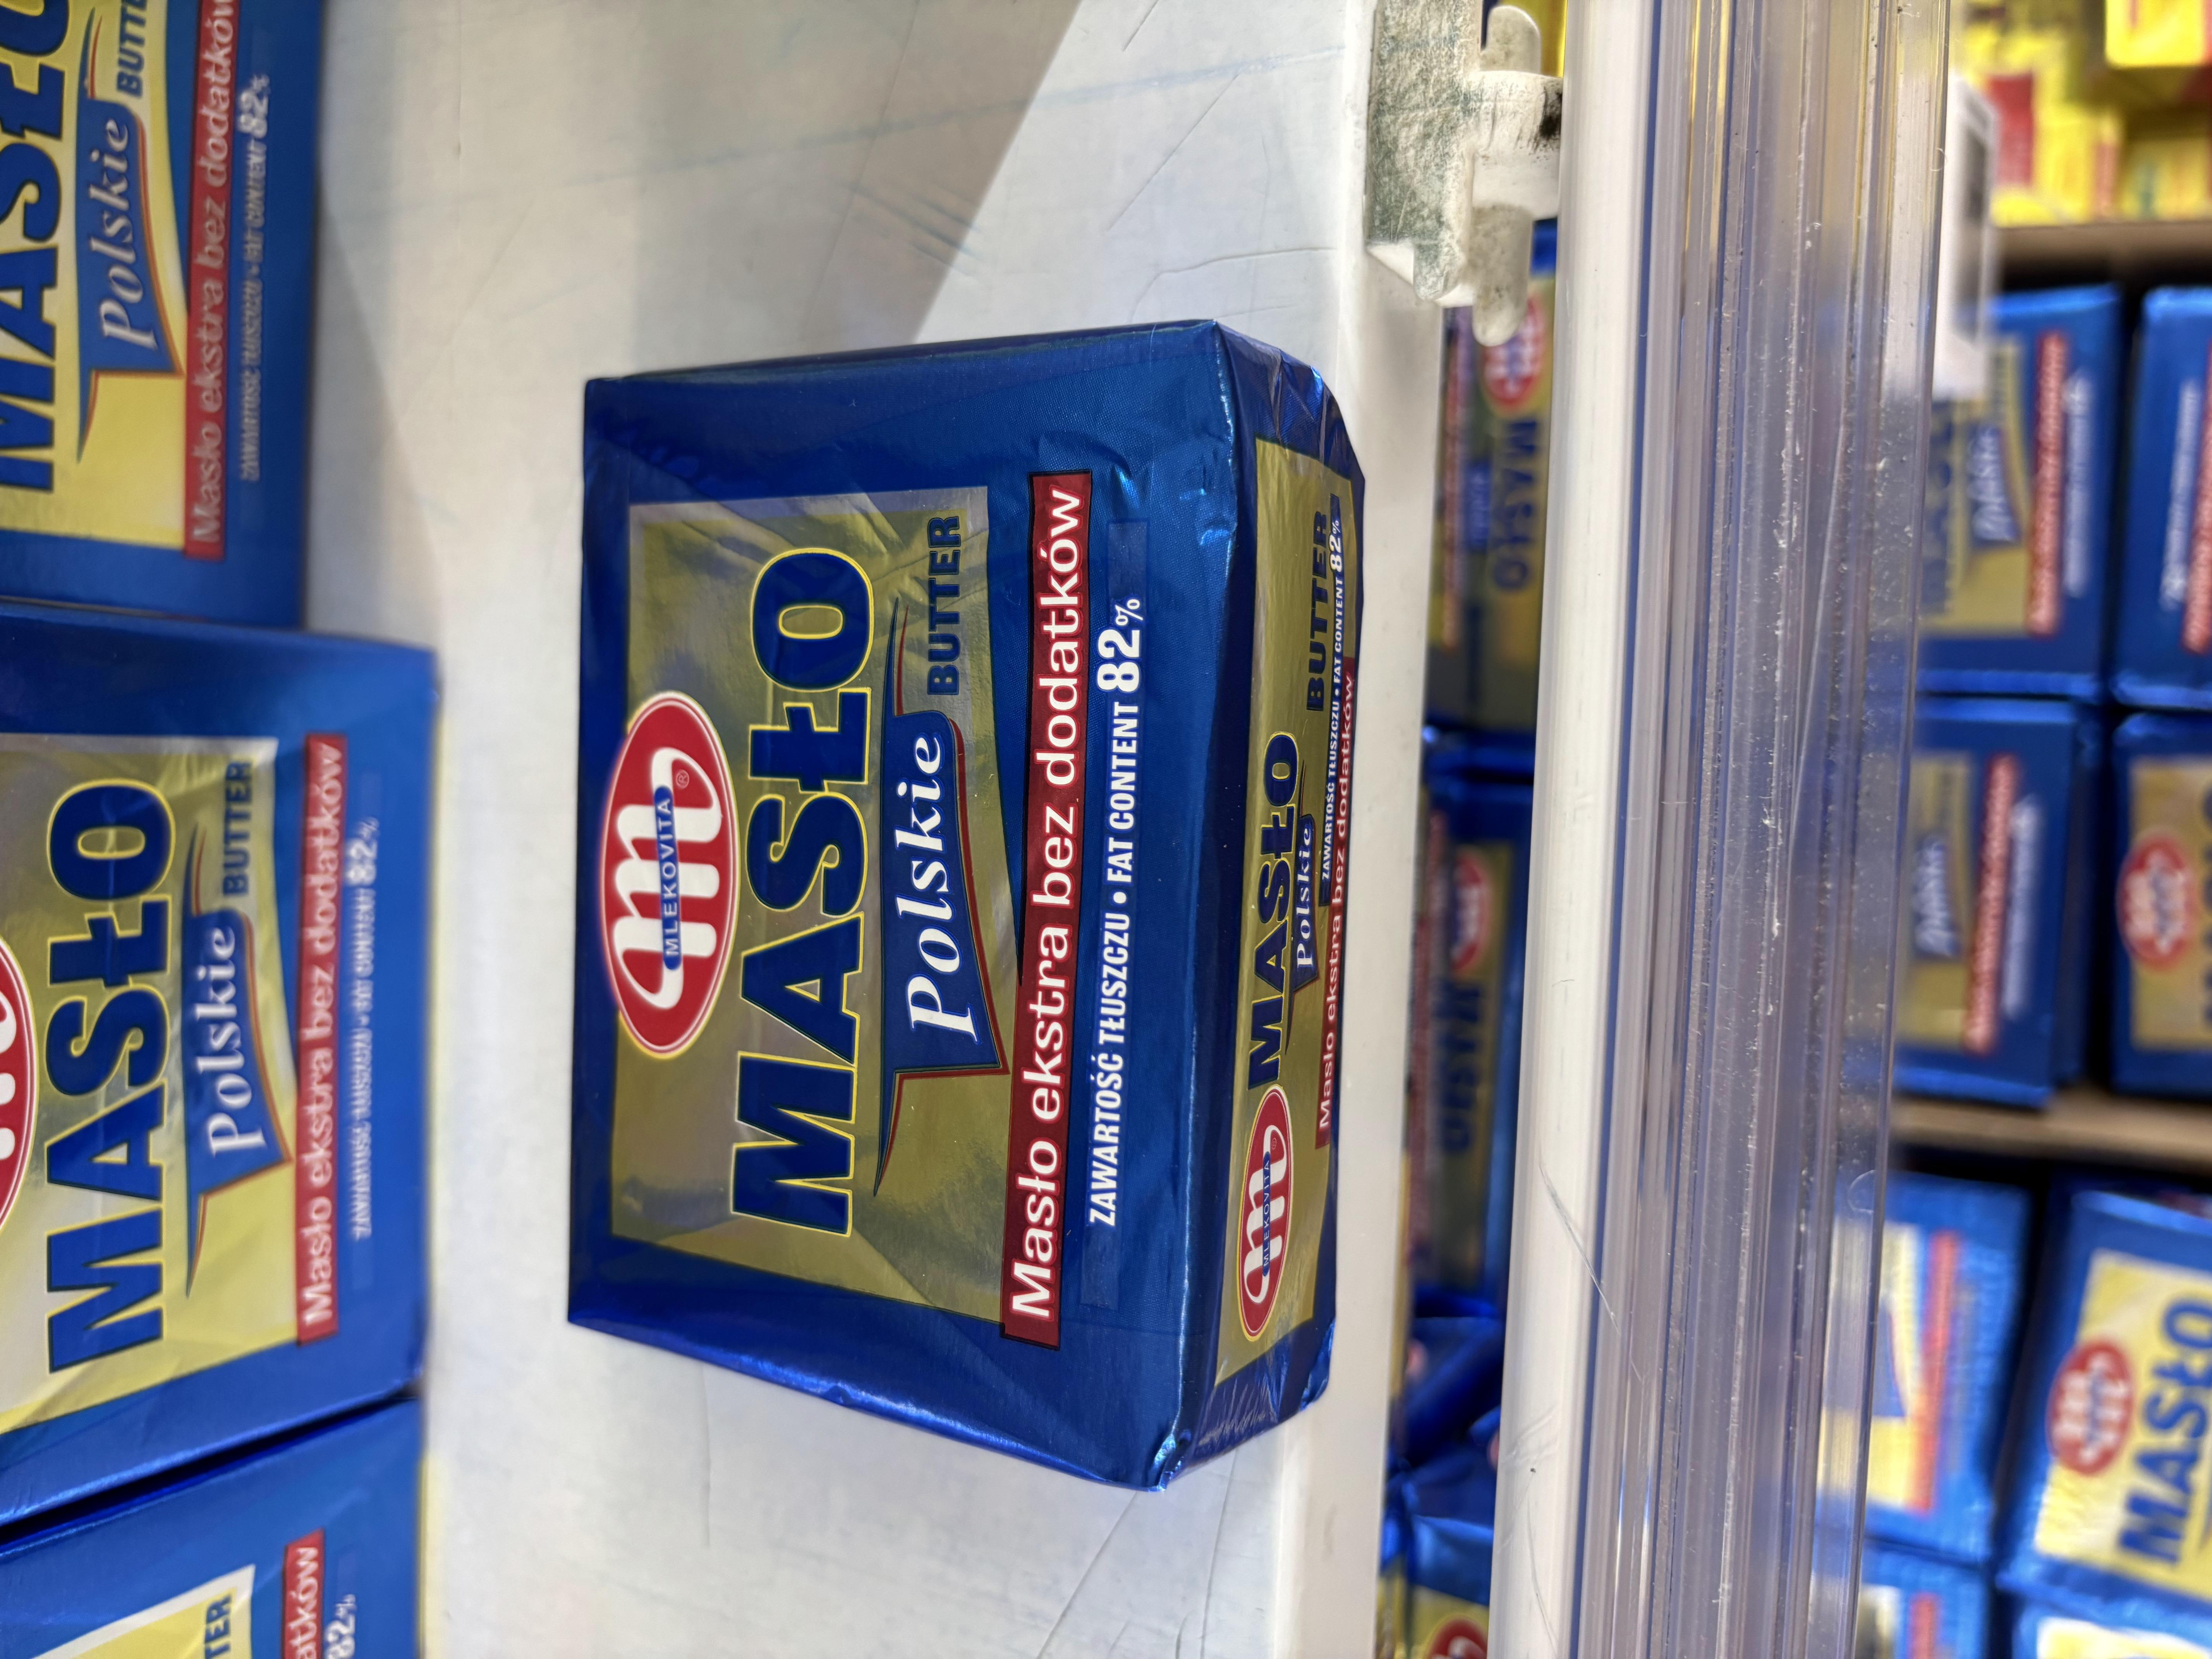Butter: (535, 350, 1442, 1448)
